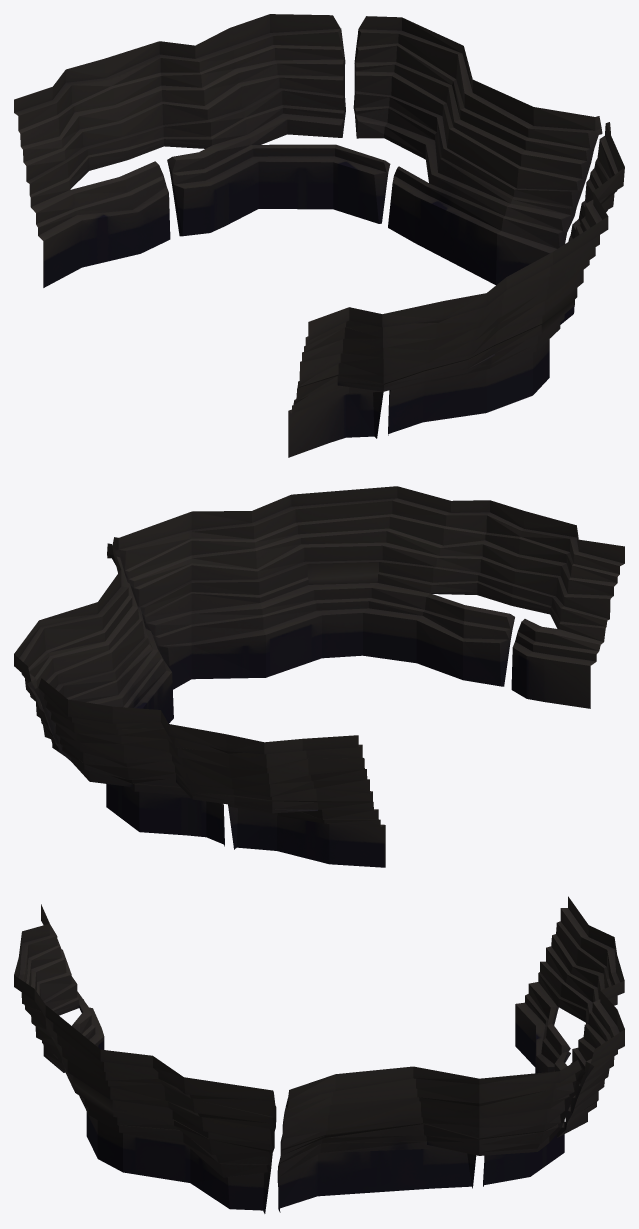
File: Wall_01.FBX
3 renders of one model, top to bottom at view 1: azimuth 30°, elevation 25°; view 2: azimuth 150°, elevation 25°; view 3: azimuth 270°, elevation 25°, orthographic. The views are drawn at different scales.
Visible parts, largest first — view 1: Wall_01; view 2: Wall_01; view 3: Wall_01.
Boxes of the visible parts, left/top/right/bottom form: Wall_01: left=14, top=14, right=624, bottom=457; Wall_01: left=14, top=486, right=624, bottom=867; Wall_01: left=14, top=896, right=624, bottom=1213.
Bounding box in the file's own units: 23.62 × 8.76 × 32.05.
